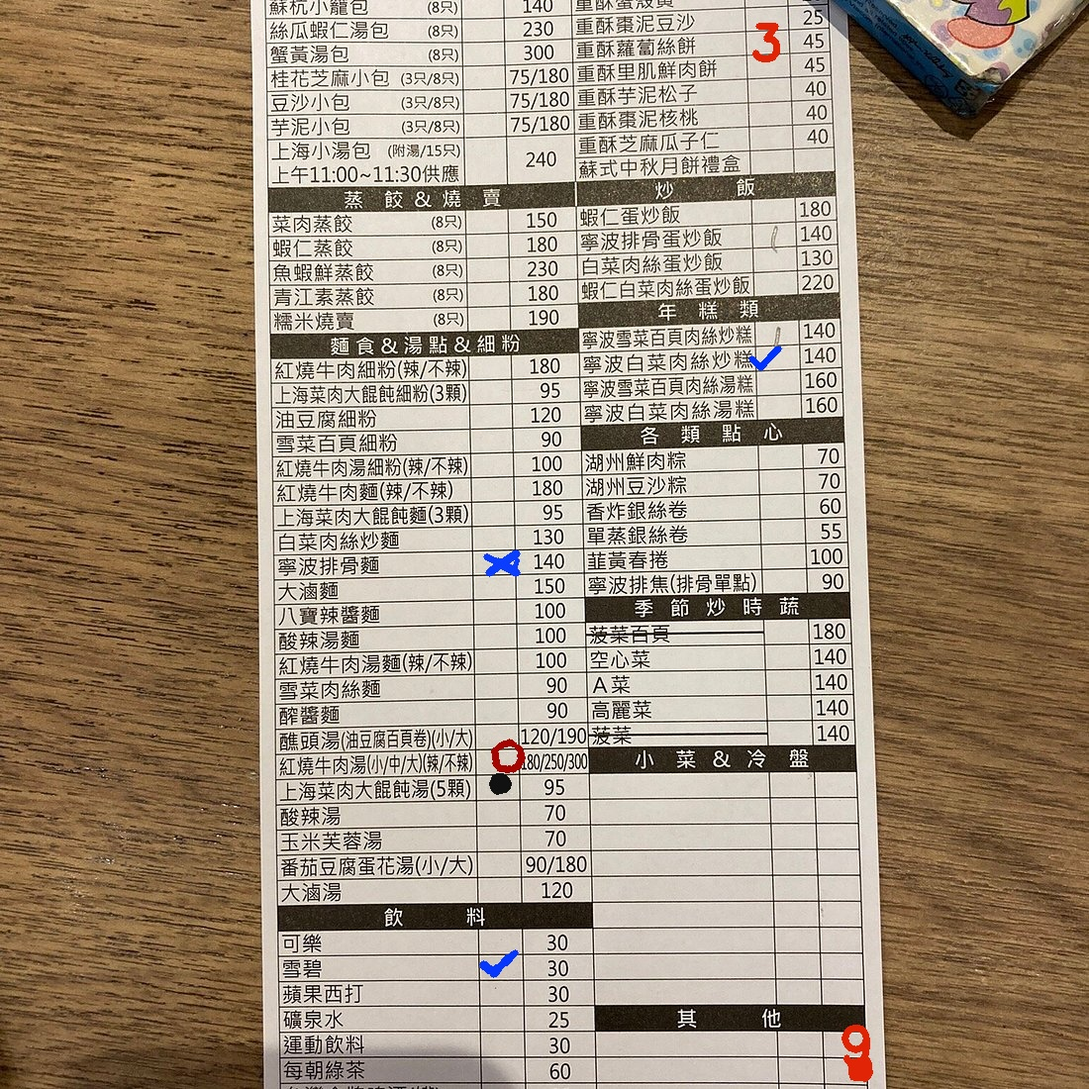marked_circle: (477, 773, 521, 801), (824, 1056, 867, 1084)
marked_hollow: (476, 748, 520, 776)
marked_number_3: (744, 29, 788, 56)
marked_number_9: (823, 1032, 866, 1059)
marked_tick: (479, 955, 523, 983), (755, 346, 799, 373)
marked_x: (471, 549, 515, 577)
